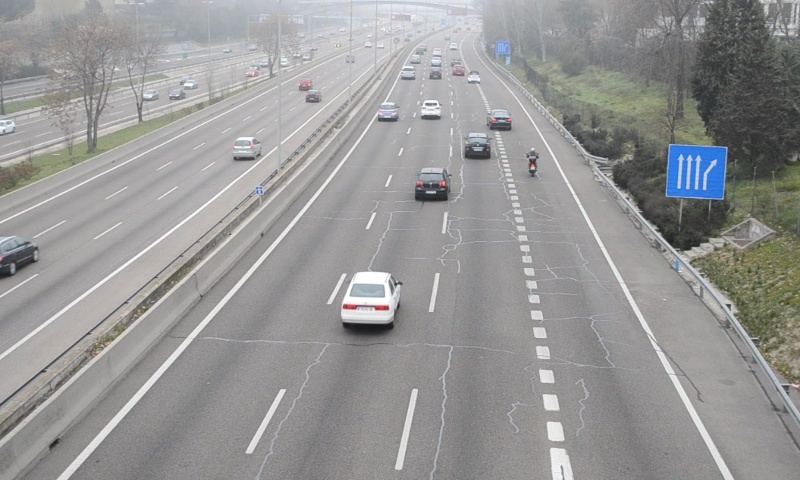car: (341, 271, 402, 326), (416, 169, 450, 201), (463, 133, 491, 157), (488, 109, 512, 132), (377, 102, 398, 122), (420, 100, 442, 119), (400, 63, 415, 79)
motorcycle: (526, 147, 540, 179)
